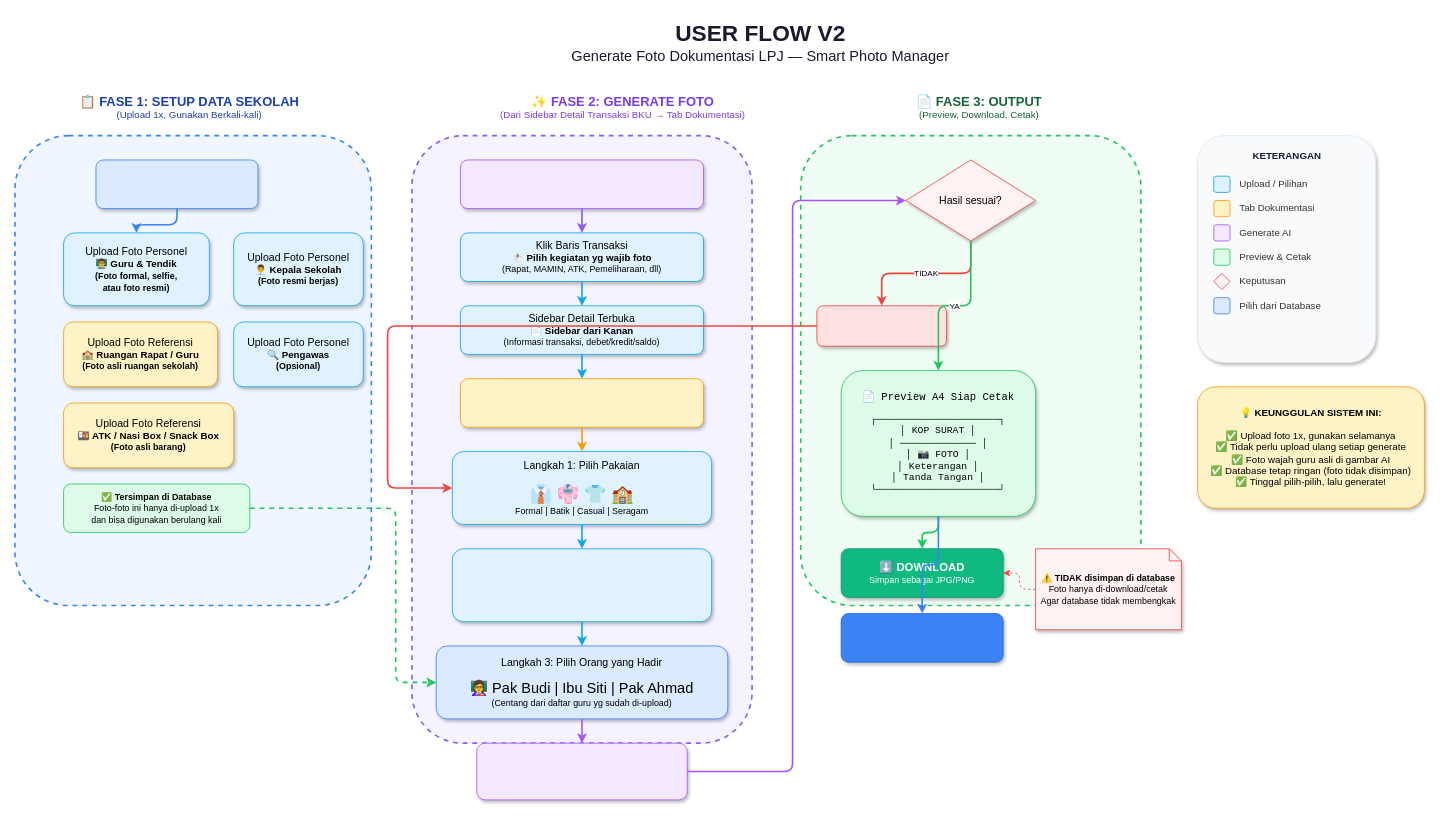
This 1443x820 diagram has some shape labels left out. The shapes that lost their labels are listed below. From the top down, each one's centre as x and y in pixels, then its label:
(x=177, y=185): Buka Menu 📋 Data Sekolah
(x=582, y=185): Buka Halaman 📊 Data BKU (Sidebar navigasi → Data BKU)
(x=882, y=327): 🔄 Kembali Pilih Ganti pakaian/suasana
(x=582, y=404): Buka Tab 📸 Dokumentasi LPJ (Tab kedua di sidebar detail)
(x=582, y=586): Langkah 2: Pilih Suasana 🏫 🌳 🏛️ 💼 Ruang Rapat | Outdoor | Aula | Kantor
(x=922, y=639): 🖨️ CETAK / SAVE PDF Langsung cetak atau save PDF
(x=582, y=772): Langkah 4: Klik Generate ✨ Tunggu 5-15 detik
